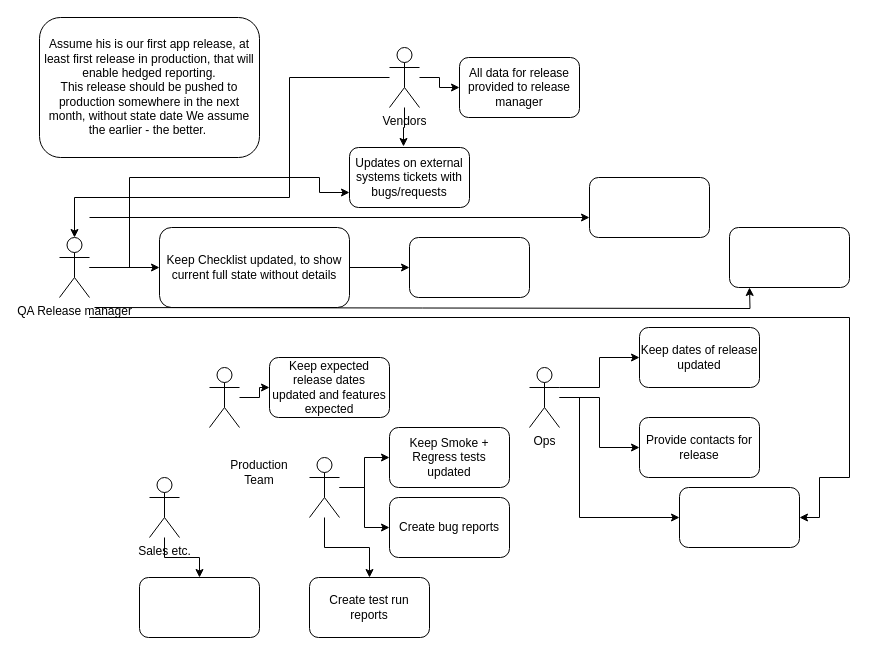
Image size: 875x655. Some labels were removed from this diagram. The centre of each missing label's shape, as x and y in pixels:
"Keeps Ops and Production team updated on vendor" belongs at (x=469, y=267).
"Monitoring bugs for release" belongs at (x=649, y=207).
"PM" belongs at (x=224, y=397).
"Retro suggestions" belongs at (x=789, y=257).
"Stay updated on dates and features expected" belongs at (x=199, y=607).
"Testing" belongs at (x=324, y=487).
"Updates on works needed for rollout/rollback" belongs at (x=739, y=517).
